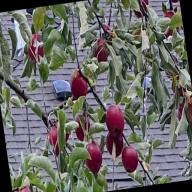Apples: (104, 104, 125, 137), (83, 141, 104, 174), (69, 68, 89, 100), (104, 130, 126, 158), (26, 34, 46, 64), (160, 10, 180, 39), (73, 113, 92, 142), (120, 146, 140, 173), (45, 125, 62, 155), (92, 38, 109, 63), (163, 54, 180, 78), (131, 0, 150, 17), (176, 100, 188, 121), (100, 23, 112, 39), (12, 184, 32, 192), (188, 96, 192, 122), (168, 0, 180, 4)
